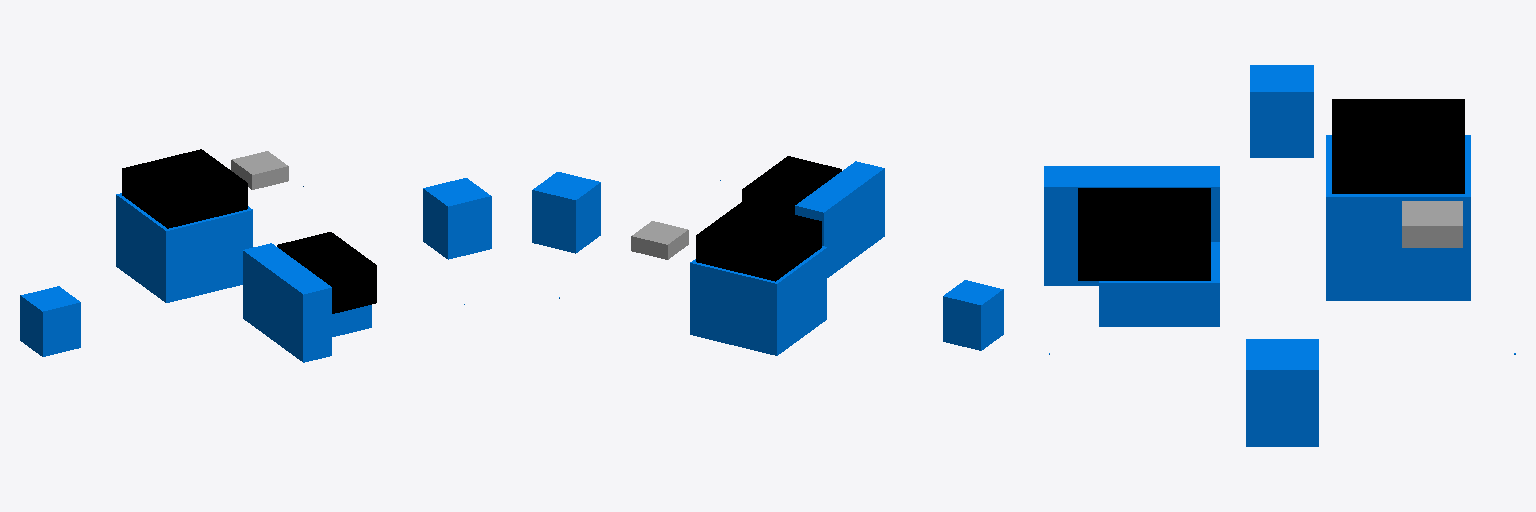
robot.urdf — vacuum_bot:
<?xml version="1.0" ?>
<!-- =================================================================================== -->
<!-- |    This document was autogenerated by xacro from tas_car.urdf.xacro             | -->
<!-- |    EDITING THIS FILE BY HAND IS NOT RECOMMENDED                                 | -->
<!-- =================================================================================== -->
<robot name="vacuum_bot" xmlns:xacro="http://www.ros.org/wiki/xacro">
  <!-- Include constants, configs, meshes etc. -->
  <!-- robot visual materials -->
  <material name="Grey">
    <color rgba="0.7 0.7 0.7 1.0"/>
  </material>
  <material name="Green">
    <color rgba="0.0 1.0 0.0 1.0"/>
  </material>
  <material name="Red">
    <color rgba="1.0 0.0 0.0 1.0"/>
  </material>
  <material name="tas_blue">
    <color rgba="0.01 0.552 1.0 1.0"/>
  </material>
  <material name="Black">
    <color rgba="0 0 0 1.0"/>
  </material>
  <link name="base_footprint"/>
  <link name="base">
    <visual>
      <origin rpy="0 0 0" xyz="0 0 0"/>
      <geometry>
        <mesh filename="package://tas_sim/urdf/meshes/model_base_reduced.dae"/>
      </geometry>
    </visual>
    <collision>
      <origin rpy="0 0 0" xyz="0 0 0"/>
      <geometry>
        <mesh filename="package://tas_sim/urdf/meshes/model_base_reduced.dae"/>
      </geometry>
    </collision>
    <inertial>
      <mass value="15.0"/>
      <inertia ixx="0.0135" ixy="0.0" ixz="0.0" iyy="0.03" iyz="0.0" izz="0.433"/>
    </inertial>
  </link>
  <joint name="base_footprint_base_joint" type="fixed">
    <axis rpy="0 0 0" xyz="0 0 1"/>
    <origin rpy="0 0 0" xyz="0.1795 0 0"/>
    <parent link="base_footprint"/>
    <child link="base"/>
  </joint>
  <!-- nuc model -->
  <link name="nuc_base">
    <visual>
      <geometry>
        <box size="0.12 0.12 0.095"/>
      </geometry>
      <material name="tas_blue"/>
    </visual>
    <collision>
      <geometry>
        <box size="0.12 0.12 0.095"/>
      </geometry>
    </collision>
    <inertial>
      <mass value="0.001"/>
      <inertia ixx="0.00195" ixy="0.0" ixz="0.0" iyy="0.00195" iyz="0.0" izz="0.0024"/>
    </inertial>
  </link>
  <gazebo reference="nuc_base">
    <material>tas_blue</material>
  </gazebo>
  <joint name="base_nuc_base_joint" type="fixed">
    <axis rpy="0 0 0" xyz="0 0 1"/>
    <origin rpy="0 0 0" xyz="-0.04 0.096 0.065"/>
    <parent link="base"/>
    <child link="nuc_base"/>
  </joint>
  <link name="nuc">
    <visual>
      <geometry>
        <box size="0.11 0.11 0.035"/>
      </geometry>
      <material name="Black"/>
    </visual>
    <collision>
      <geometry>
        <box size="0.11 0.11 0.035"/>
      </geometry>
    </collision>
    <inertial>
      <mass value="0.001"/>
      <inertia ixx="0.0011" ixy="0.0" ixz="0.0" iyy="0.0011" iyz="0.0" izz="0.00202"/>
    </inertial>
  </link>
  <gazebo reference="nuc">
    <material>Gazebo/Black</material>
  </gazebo>
  <joint name="nuc_base_nuc_joint" type="fixed">
    <origin rpy="0 0 0" xyz="0 0 0.065"/>
    <axis rpy="0 0 0" xyz="0 0 1"/>
    <parent link="nuc_base"/>
    <child link="nuc"/>
  </joint>
  <!-- battery holder model -->
  <link name="battery_holder">
    <visual>
      <geometry>
        <box size="0.04 0.145 0.09"/>
      </geometry>
      <material name="tas_blue"/>
    </visual>
    <visual>
      <origin rpy="0 0 0" xyz="0.06 0.0225 -0.025"/>
      <geometry>
        <box size="0.08 0.1 0.04"/>
      </geometry>
      <material name="tas_blue"/>
    </visual>
    <collision>
      <geometry>
        <box size="0.04 0.145 0.09"/>
      </geometry>
    </collision>
    <collision>
      <origin rpy="0 0 0" xyz="0.06 0.0225 -0.025"/>
      <geometry>
        <box size="0.08 0.1 0.04"/>
      </geometry>
    </collision>
    <inertial>
      <mass value="0.001"/>
      <inertia ixx="0.00243" ixy="0.0" ixz="0.0" iyy="0.0008" iyz="0.0" izz="0.00189"/>
    </inertial>
    <inertial>
      <mass value="0.001"/>
      <ineria ixx="0.00097" ixy="0.0" ixz="0.0" iyy="0.0007" iyz="0.0" izz="0.00137"/>
      <origin rpy="0 0 0" xyz="0.06 0.0225 -0.025"/>
    </inertial>
  </link>
  <gazebo reference="battery_holder">
    <material>tas_blue</material>
  </gazebo>
  <joint name="base_battery_holder_joint" type="fixed">
    <axis rpy="0 0 0" xyz="0 0 1"/>
    <origin rpy="0 0 0" xyz="-0.025 -0.1235 0.065"/>
    <parent link="base"/>
    <child link="battery_holder"/>
  </joint>
  <!-- battery model -->
  <link name="battery">
    <visual>
      <geometry>
        <box size="0.075 0.11 0.05"/>
      </geometry>
      <material name="Black"/>
    </visual>
    <collision>
      <geometry>
        <box size="0.075 0.11 0.05"/>
      </geometry>
    </collision>
    <inertial>
      <mass value="0.001"/>
      <inertia ixx="0.00122" ixy="0.0" ixz="0.0" iyy="0.00068" iyz="0.0" izz="0.00148"/>
    </inertial>
  </link>
  <gazebo reference="battery">
    <material>Gazebo/Black</material>
  </gazebo>
  <joint name="battery_holder_battery_joint" type="fixed">
    <origin rpy="0 0 0" xyz="0.06 0.01 0.02"/>
    <axis rpy="0 0 0" xyz="0 0 1"/>
    <parent link="battery_holder"/>
    <child link="battery"/>
  </joint>
  <!-- create dummy link for ackermann drive with steering joint for the right front wheel -->
  <link name="r_ack_link">
    <visual>
      <geometry>
        <box size="0.001 0.001 0.001"/>
      </geometry>
      <material name="tas_blue"/>
    </visual>
    <collision>
      <geometry>
        <box size="0.001 0.001 0.001"/>
      </geometry>
    </collision>
    <inertial>
      <mass value="0.5"/>
      <origin rpy="0 0 0" xyz="0 0 0"/>
      <inertia ixx="0.001" ixy="0.0" ixz="0.0" iyy="0.001" iyz="0.0" izz="0.001"/>
    </inertial>
  </link>
  <gazebo reference="r_ack_link">
    <material>tas_blue</material>
  </gazebo>
  <joint name="r_ack_joint" type="revolute">
    <origin rpy="0 0 0" xyz="0.1794 -0.19189 0.0435"/>
    <axis rpy="0 0 0" xyz="0 0 1"/>
    <parent link="base"/>
    <child link="r_ack_link"/>
    <limit effort="1000000" lower="-0.4" upper="0.4" velocity="0.5"/>
  </joint>
  <!-- create dummy link for ackermann drive with steering joint for the left front wheel -->
  <link name="l_ack_link">
    <visual>
      <geometry>
        <box size="0.001 0.001 0.001"/>
      </geometry>
      <material name="tas_blue"/>
    </visual>
    <collision>
      <geometry>
        <box size="0.001 0.001 0.001"/>
      </geometry>
    </collision>
    <inertial>
      <mass value="0.5"/>
      <inertia ixx="0.001" ixy="0.0" ixz="0.0" iyy="0.001" iyz="0.0" izz="0.001"/>
    </inertial>
  </link>
  <gazebo reference="l_ack_link">
    <material>tas_blue</material>
  </gazebo>
  <joint name="l_ack_joint" type="revolute">
    <origin rpy="0 0 0" xyz="0.1794 0.19189 0.0435"/>
    <axis rpy="0 0 0" xyz="0 0 1"/>
    <parent link="base"/>
    <child link="l_ack_link"/>
    <limit effort="1000000" lower="-0.4" upper="0.4" velocity="0.5"/>
  </joint>
  <link name="l_f_wheel">
    <visual>
      <origin rpy="0 0 0" xyz="0 0 0"/>
      <geometry>
        <mesh filename="package://tas_sim/urdf/meshes/model_wheel_left.dae"/>
      </geometry>
    </visual>
    <collision>
      <geometry>
        <mesh filename="package://tas_sim/urdf/meshes/model_wheel_left_collision.dae"/>
      </geometry>
    </collision>
    <inertial>
      <mass value="0.5"/>
      <origin xyz="0 0 0"/>
      <inertia ixx="0.00812" ixy="0.0" ixz="0.0" iyy="0.00812" iyz="0.0" izz="0.0156"/>
    </inertial>
  </link>
  <gazebo reference="l_f_wheel">
    <fdir1>1 0 0</fdir1>
    <maxContacts>1</maxContacts>
    <minDepth>0.005</minDepth>
    <collision>
      <surface>
        <friction>
          <ode>
            <mu>100000.0</mu>
            <mu2>100000.0</mu2>
            <slip1>0.0</slip1>
            <slip2>0.0</slip2>
          </ode>
          <torsional>
            <coefficient>10.0</coefficient>
            <surface_radius>1.0</surface_radius>
            <use_patch_radius>true</use_patch_radius>
          </torsional>
        </friction>
      </surface>
    </collision>
  </gazebo>
  <joint name="l_ack_link_l_f_wheel_joint" type="continuous">
    <axis rpy="0 0 0" xyz="0 0 1"/>
    <origin rpy="1.570796325 0 3.14159265" xyz="0 0 0"/>
    <parent link="l_ack_link"/>
    <child link="l_f_wheel"/>
    <limit effort="1000000" velocity="20"/>
  </joint>
  <link name="r_f_wheel">
    <visual>
      <origin rpy="0 0 0" xyz="0 0 0"/>
      <geometry>
        <mesh filename="package://tas_sim/urdf/meshes/model_wheel_right.dae"/>
      </geometry>
    </visual>
    <collision>
      <geometry>
        <mesh filename="package://tas_sim/urdf/meshes/model_wheel_right_collision.dae"/>
      </geometry>
    </collision>
    <inertial>
      <mass value="0.5"/>
      <origin xyz="0 0 0"/>
      <inertia ixx="0.00812" ixy="0.0" ixz="0.0" iyy="0.00812" iyz="0.0" izz="0.0156"/>
    </inertial>
  </link>
  <gazebo reference="r_f_wheel">
    <fdir1>1 0 0</fdir1>
    <maxContacts>1</maxContacts>
    <minDepth>0.005</minDepth>
    <collision>
      <surface>
        <friction>
          <ode>
            <mu>100000.0</mu>
            <mu2>100000.0</mu2>
            <slip1>0.0</slip1>
            <slip2>0.0</slip2>
          </ode>
          <torsional>
            <coefficient>10.0</coefficient>
            <surface_radius>1.0</surface_radius>
            <use_patch_radius>true</use_patch_radius>
          </torsional>
        </friction>
      </surface>
    </collision>
  </gazebo>
  <joint name="r_ack_link_r_f_wheel_joint" type="continuous">
    <axis rpy="0 0 0" xyz="0 0 1"/>
    <origin rpy="1.570796325 0 3.14159265" xyz="0 0 0"/>
    <parent link="r_ack_link"/>
    <child link="r_f_wheel"/>
    <limit effort="1000000" velocity="20"/>
  </joint>
  <link name="l_b_wheel">
    <visual>
      <origin rpy="0 0 0" xyz="0 0 0"/>
      <geometry>
        <mesh filename="package://tas_sim/urdf/meshes/model_wheel_left.dae"/>
      </geometry>
    </visual>
    <collision>
      <geometry>
        <mesh filename="package://tas_sim/urdf/meshes/model_wheel_left_collision.dae"/>
      </geometry>
    </collision>
    <inertial>
      <mass value="0.5"/>
      <origin xyz="0 0 0"/>
      <inertia ixx="0.00812" ixy="0.0" ixz="0.0" iyy="0.00812" iyz="0.0" izz="0.0156"/>
    </inertial>
  </link>
  <gazebo reference="l_b_wheel">
    <fdir1>1 0 0</fdir1>
    <maxContacts>1</maxContacts>
    <minDepth>0.005</minDepth>
    <collision>
      <surface>
        <friction>
          <ode>
            <mu>100000.0</mu>
            <mu2>100000.0</mu2>
            <slip1>0.0</slip1>
            <slip2>0.0</slip2>
          </ode>
          <torsional>
            <coefficient>10.0</coefficient>
            <surface_radius>1.0</surface_radius>
            <use_patch_radius>true</use_patch_radius>
          </torsional>
        </friction>
      </surface>
    </collision>
  </gazebo>
  <joint name="base_l_b_wheel_joint" type="continuous">
    <axis rpy="0 0 0" xyz="0 0 1"/>
    <origin rpy="1.570796325 0 3.14159265" xyz="-0.1795 0.19189 0.0435"/>
    <parent link="base"/>
    <child link="l_b_wheel"/>
    <limit effort="1000000" velocity="20"/>
  </joint>
  <link name="r_b_wheel">
    <visual>
      <origin rpy="0 0 0" xyz="0 0 0"/>
      <geometry>
        <mesh filename="package://tas_sim/urdf/meshes/model_wheel_right.dae"/>
      </geometry>
    </visual>
    <collision>
      <geometry>
        <mesh filename="package://tas_sim/urdf/meshes/model_wheel_right_collision.dae"/>
      </geometry>
    </collision>
    <inertial>
      <mass value="0.5"/>
      <origin xyz="0 0 0"/>
      <inertia ixx="0.00812" ixy="0.0" ixz="0.0" iyy="0.00812" iyz="0.0" izz="0.0156"/>
    </inertial>
  </link>
  <gazebo reference="r_b_wheel">
    <fdir1>1 0 0</fdir1>
    <maxContacts>1</maxContacts>
    <minDepth>0.005</minDepth>
    <collision>
      <surface>
        <friction>
          <ode>
            <mu>100000.0</mu>
            <mu2>100000.0</mu2>
            <slip1>0.0</slip1>
            <slip2>0.0</slip2>
          </ode>
          <torsional>
            <coefficient>10.0</coefficient>
            <surface_radius>1.0</surface_radius>
            <use_patch_radius>true</use_patch_radius>
          </torsional>
        </friction>
      </surface>
    </collision>
  </gazebo>
  <joint name="base_r_b_wheel_joint" type="continuous">
    <axis rpy="0 0 0" xyz="0 0 1"/>
    <origin rpy="1.570796325 0 3.14159265" xyz="-0.1795 -0.19189 0.0435"/>
    <parent link="base"/>
    <child link="r_b_wheel"/>
    <limit effort="1000000" velocity="20"/>
  </joint>
  <!-- support structures for the laser scanners -->
  <link name="laser_sup_front">
    <visual>
      <geometry>
        <box size="0.06 0.06 0.07"/>
      </geometry>
      <material name="tas_blue"/>
    </visual>
    <collision>
      <geometry>
        <box size="0.06 0.06 0.07"/>
      </geometry>
    </collision>
    <inertial>
      <mass value="0.001"/>
      <inertia ixx="0.00071" ixy="0.0" ixz="0.0" iyy="0.00071" iyz="0.0" izz="0.0006"/>
    </inertial>
  </link>
  <gazebo reference="laser_sup_front">
    <material>tas_blue</material>
  </gazebo>
  <joint name="base_laser_sup_front_joint" type="fixed">
    <origin rpy="0 0 0" xyz="0.28 0 0.055"/>
    <axis rpy="0 0 0" xyz="0 0 1"/>
    <parent link="base"/>
    <child link="laser_sup_front"/>
  </joint>
  <link name="laser_sup_back">
    <visual>
      <geometry>
        <box size="0.053 0.053 0.06"/>
      </geometry>
      <material name="tas_blue"/>
    </visual>
    <collision>
      <geometry>
        <box size="0.053 0.053 0.06"/>
      </geometry>
    </collision>
    <inertial>
      <mass value="0.001"/>
      <inertia ixx="0.000534" ixy="0.0" ixz="0.0" iyy="0.000534" iyz="0.0" izz="0.00047"/>
    </inertial>
  </link>
  <gazebo reference="laser_sup_back">
    <material>tas_blue</material>
  </gazebo>
  <joint name="base_laser_sup_back_joint" type="fixed">
    <origin rpy="0 0 0" xyz="-0.28 0 0.05"/>
    <axis rpy="0 0 0" xyz="0 0 1"/>
    <parent link="base"/>
    <child link="laser_sup_back"/>
  </joint>
  <link name="laser">
    <visual>
      <origin xyz="0 0 -0.025"/>
      <geometry>
        <mesh filename="package://tas_sim/urdf/meshes/hokuyo.dae"/>
      </geometry>
      <material name="Green"/>
    </visual>
    <collision>
      <origin xyz="0 0 -0.025"/>
      <geometry>
        <box size="0.05 0.05 0.07"/>
      </geometry>
    </collision>
    <inertial>
      <mass value="0.001"/>
      <origin xyz="0 0 0"/>
      <inertia ixx="0.0001" ixy="0.0" ixz="0.0" iyy="0.0001" iyz="0.0" izz="0.0001"/>
    </inertial>
  </link>
  <gazebo reference="laser">
    <sensor name="head_hokuyo_sensor" type="ray">
      <pose>0 0 0 0 0 0</pose>
      <visualize>false</visualize>
      <update_rate>40</update_rate>
      <ray>
        <scan>
          <horizontal>
            <samples>720</samples>
            <resolution>0.25</resolution>
            <min_angle>-1.5707</min_angle>
            <max_angle>1.5707</max_angle>
          </horizontal>
        </scan>
        <range>
          <min>0.05</min>
          <max>30.0</max>
          <resolution>0.01</resolution>
        </range>
        <noise>
          <type>gaussian</type>
          <!-- Noise parameters based on published spec for Hokuyo laser
                 achieving "+-30mm" accuracy at range < 10m.  A mean of 0.0m and
                 stddev of 0.01m will put 99.7% of samples within 0.03m of the true
                 reading. -->
          <mean>0.0</mean>
          <stddev>0.01</stddev>
        </noise>
      </ray>
      <plugin filename="libgazebo_ros_laser.so" name="gazebo_ros_head_hokuyo_controller">
        <topicName>/scan_front</topicName>
        <frameName>laser</frameName>
      </plugin>
    </sensor>
  </gazebo>
  <joint name="laser_joint" type="fixed">
    <origin rpy="0 0 0" xyz="0.28 0.0 0.15"/>
    <axis rpy="0 0 0" xyz="0 0 1"/>
    <parent link="base"/>
    <child link="laser"/>
  </joint>
  <gazebo reference="laser_joint">
    <disableFixedJointLumping>true</disableFixedJointLumping>
  </gazebo>
  <link name="laser_back">
    <visual>
      <origin xyz="0 0 -0.025"/>
      <geometry>
        <mesh filename="package://tas_sim/urdf/meshes/hokuyo.dae"/>
      </geometry>
      <material name="Green"/>
    </visual>
    <collision>
      <origin xyz="0 0 -0.025"/>
      <geometry>
        <box size="0.05 0.05 0.07"/>
      </geometry>
    </collision>
    <inertial>
      <mass value="0.001"/>
      <origin xyz="0 0 0"/>
      <inertia ixx="0.0001" ixy="0.0" ixz="0.0" iyy="0.0001" iyz="0.0" izz="0.0001"/>
    </inertial>
  </link>
  <gazebo reference="laser_back">
    <sensor name="head_hokuyo_sensor" type="ray">
      <pose>0 0 0 0 0 0</pose>
      <visualize>false</visualize>
      <update_rate>40</update_rate>
      <ray>
        <scan>
          <horizontal>
            <samples>720</samples>
            <resolution>0.25</resolution>
            <min_angle>-1.5707</min_angle>
            <max_angle>1.5707</max_angle>
          </horizontal>
        </scan>
        <range>
          <min>0.05</min>
          <max>30.0</max>
          <resolution>0.01</resolution>
        </range>
        <noise>
          <type>gaussian</type>
          <!-- Noise parameters based on published spec for Hokuyo laser
                 achieving "+-30mm" accuracy at range < 10m.  A mean of 0.0m and
                 stddev of 0.01m will put 99.7% of samples within 0.03m of the true
                 reading. -->
          <mean>0.0</mean>
          <stddev>0.01</stddev>
        </noise>
      </ray>
      <plugin filename="libgazebo_ros_laser.so" name="gazebo_ros_head_hokuyo_controller">
        <topicName>/scan_back</topicName>
        <frameName>laser_back</frameName>
      </plugin>
    </sensor>
  </gazebo>
  <joint name="laser_back_joint" type="fixed">
    <origin rpy="0 0 3.14159265" xyz="-0.28 0.0 0.14"/>
    <axis rpy="0 0 0" xyz="0 0 1"/>
    <parent link="base"/>
    <child link="laser_back"/>
  </joint>
  <gazebo reference="laser_back_joint">
    <disableFixedJointLumping>true</disableFixedJointLumping>
  </gazebo>
  <link name="imu_link">
    <visual>
      <origin rpy="0 0 0" xyz="0 0 0"/>
      <geometry>
        <box size="0.05 0.05 0.02"/>
      </geometry>
      <material name="Grey"/>
    </visual>
    <collision>
      <origin rpy="0 0 0" xyz="0 0 0"/>
      <geometry>
        <box size="0.05 0.05 0.02"/>
      </geometry>
    </collision>
    <inertial>
      <mass value="0.001"/>
      <inertia ixx="0.000242" ixy="0" ixz="0" iyy="0.000242" iyz="0" izz="0.000417"/>
    </inertial>
  </link>
  <gazebo reference="imu_link">
    <material>Gazebo/Grey</material>
  </gazebo>
  <joint name="imu_link_joint" type="fixed">
    <axis rpy="0 0 0" xyz="0 0 1"/>
    <origin rpy="0 0 0" xyz="0.08 0.124 0.115"/>
    <parent link="base"/>
    <child link="imu_link"/>
  </joint>
  <gazebo reference="imu_link_joint">
    <disableFixedJointLumping>true</disableFixedJointLumping>
  </gazebo>
  <gazebo reference="imu_link">
    <gravity>true</gravity>
    <sensor name="imu_sensor" type="imu">
      <always_on>true</always_on>
      <update_rate>100</update_rate>
      <visualize>false</visualize>
      <topic>/tas_car/imu</topic>
      <plugin filename="libgazebo_ros_imu_sensor.so" name="imu_plugin">
        <topicName>imu</topicName>
        <bodyName>imu_link</bodyName>
        <updateRateHZ>10.0</updateRateHZ>
        <gaussianNoise>0.0</gaussianNoise>
        <xyzOffset>0 0 0</xyzOffset>
        <rpyOffset>0 0 0</rpyOffset>
        <frameName>imu_link</frameName>
      </plugin>
      <pose>0 0 0 0 0 0</pose>
    </sensor>
  </gazebo>
  <!-- Passive joint state publisher plugin for Gazebo -->
  <gazebo>
    <plugin filename="libgazebo_ros_joint_state_publisher.so" name="joint_state_publisher">
      <robotNamespace>tas_car</robotNamespace>
      <jointName>l_ack_link_l_f_wheel_joint, r_ack_link_r_f_wheel_joint</jointName>
      <updateRate>50</updateRate>
      <alwaysOn>true</alwaysOn>
    </plugin>
  </gazebo>
  <transmission name="trans_r_ack_joint">
    <type>transmission_interface/SimpleTransmission</type>
    <joint name="r_ack_joint">
      <hardwareInterface>hardware_interface/EffortJointInterface</hardwareInterface>
    </joint>
    <actuator name="r_ack_joint_motor">
      <hardwareInterface>hardware_interface/EffortJointInterface</hardwareInterface>
      <mechanicalReduction>1</mechanicalReduction>
    </actuator>
  </transmission>
  <transmission name="trans_l_ack_joint">
    <type>transmission_interface/SimpleTransmission</type>
    <joint name="l_ack_joint">
      <hardwareInterface>hardware_interface/EffortJointInterface</hardwareInterface>
    </joint>
    <actuator name="l_ack_joint_motor">
      <hardwareInterface>hardware_interface/EffortJointInterface</hardwareInterface>
      <mechanicalReduction>1</mechanicalReduction>
    </actuator>
  </transmission>
  <transmission name="trans_base_r_b_wheel_joint">
    <type>transmission_interface/SimpleTransmission</type>
    <joint name="base_r_b_wheel_joint">
      <hardwareInterface>hardware_interface/EffortJointInterface</hardwareInterface>
    </joint>
    <actuator name="base_r_b_wheel_joint_motor">
      <hardwareInterface>hardware_interface/EffortJointInterface</hardwareInterface>
      <mechanicalReduction>1</mechanicalReduction>
    </actuator>
  </transmission>
  <transmission name="trans_base_l_b_wheel_joint">
    <type>transmission_interface/SimpleTransmission</type>
    <joint name="base_l_b_wheel_joint">
      <hardwareInterface>hardware_interface/EffortJointInterface</hardwareInterface>
    </joint>
    <actuator name="base_l_b_wheel_joint_motor">
      <hardwareInterface>hardware_interface/EffortJointInterface</hardwareInterface>
      <mechanicalReduction>1</mechanicalReduction>
    </actuator>
  </transmission>
  <gazebo>
    <plugin filename="libgazebo_ros_control.so" name="gazebo_ros_control">
      <robotNamespace>/tas_car</robotNamespace>
      <legacyModeNS>true</legacyModeNS>
      <!-- Removes Gazebo error message -->
    </plugin>
  </gazebo>
</robot>

--- Render facts (derived) ---
Views: 3 orthographic renders of the robot side by side, from view 1: azimuth 30°, elevation 25°; view 2: azimuth 150°, elevation 25°; view 3: azimuth 270°, elevation 25°.
Robot: vacuum_bot — 17 links, 16 joints (2 revolute, 4 continuous, 10 fixed); root link base_footprint; default pose: all joints at 0.
Links seen in each view (by area): view 1: nuc_base, battery_holder, nuc, laser_sup_front, battery, laser_sup_back, imu_link; view 2: nuc_base, nuc, battery_holder, laser_sup_front, laser_sup_back, battery, imu_link; view 3: battery_holder, nuc_base, nuc, battery, laser_sup_front, laser_sup_back, imu_link.
Link boxes in pixels (box(x1,y1,x2,y2)): nuc_base: box(116, 193, 252, 302); battery_holder: box(243, 243, 371, 362); nuc: box(122, 149, 247, 228); laser_sup_front: box(423, 178, 491, 259); battery: box(277, 232, 376, 313); laser_sup_back: box(20, 286, 80, 356); imu_link: box(231, 151, 288, 189); nuc_base: box(690, 246, 826, 355); nuc: box(696, 202, 821, 281); battery_holder: box(795, 161, 884, 277); laser_sup_front: box(532, 172, 600, 253); laser_sup_back: box(943, 280, 1003, 350); battery: box(742, 156, 841, 214); imu_link: box(631, 221, 688, 259); battery_holder: box(1044, 166, 1219, 326); nuc_base: box(1326, 135, 1470, 300); nuc: box(1332, 99, 1464, 193); battery: box(1078, 188, 1210, 280); laser_sup_front: box(1246, 339, 1318, 446); laser_sup_back: box(1250, 65, 1313, 157); imu_link: box(1402, 201, 1462, 247).
Size in the robot's own frame: 0.6165 by 0.3884 by 0.13 metres.
Meshes: 4 distinct files referenced, 0 mesh visuals loaded (none loaded); not drawn: 7 (reference not matched to a file when rendering).
